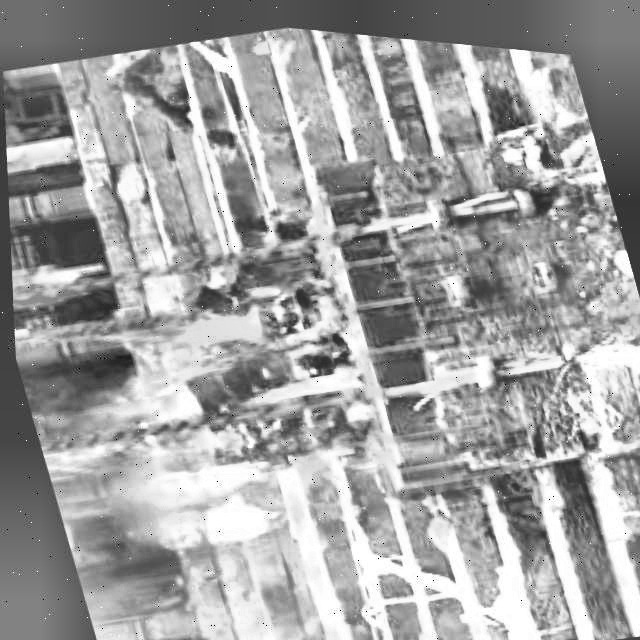Fire: (120, 271, 368, 445)
